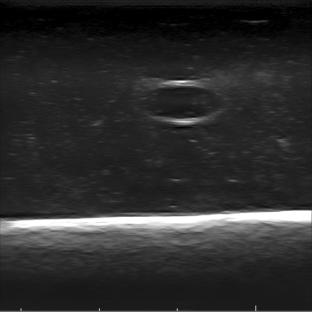vessel: (144, 79, 224, 125)
